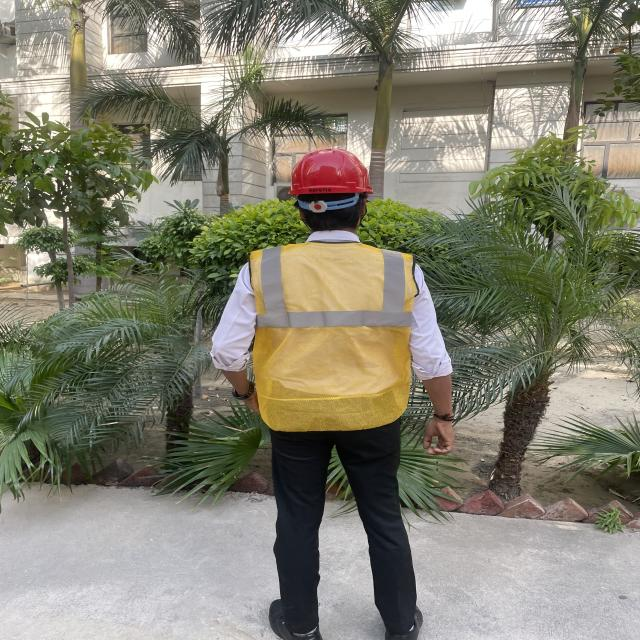safe: (213, 147, 456, 640)
